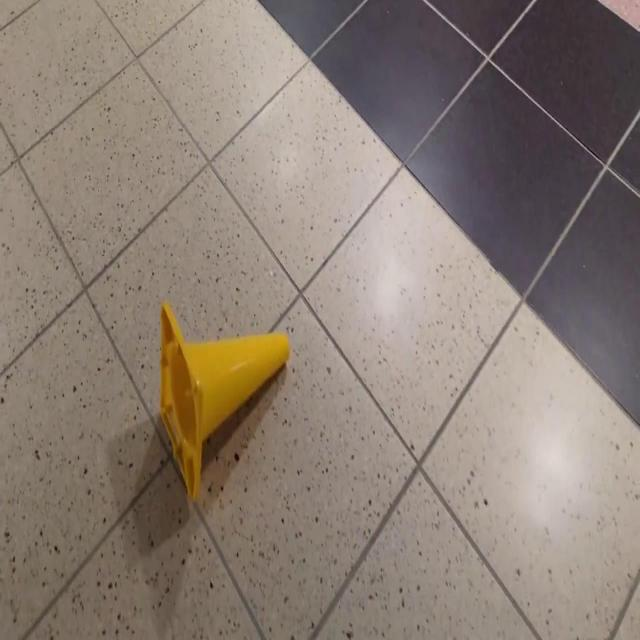frc_cone: (158, 300, 290, 504)
